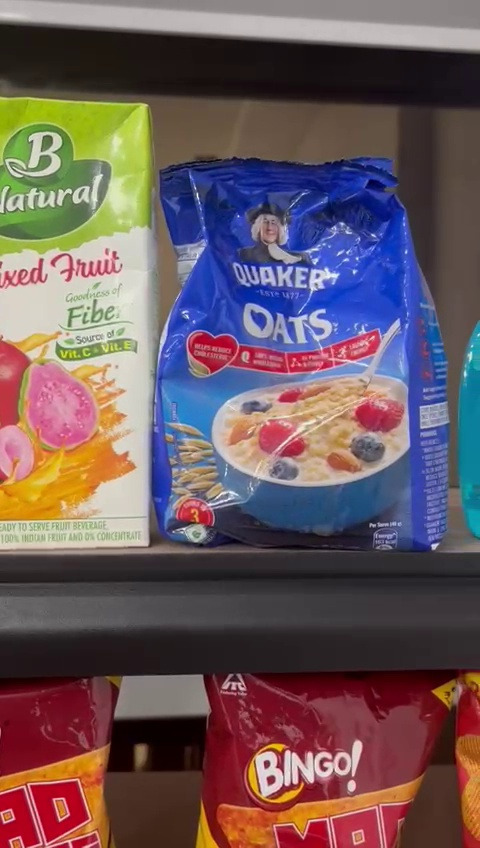Quaker Oats: (149, 151, 458, 548)
